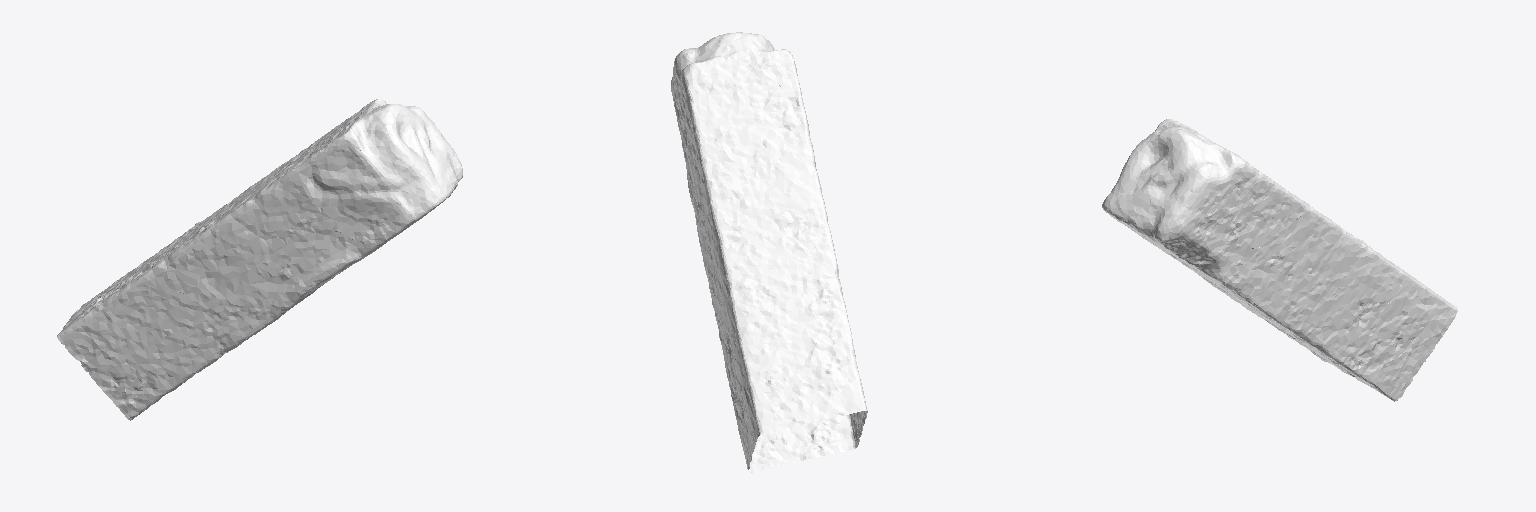
Rendered from lyon_type.obj.
3 views of the same model, side by side, from view 1: azimuth 30°, elevation 25°; view 2: azimuth 150°, elevation 25°; view 3: azimuth 270°, elevation 25° (orthographic).
Size of the model in its own units: 0.7265 by 0.7741 by 0.7531.